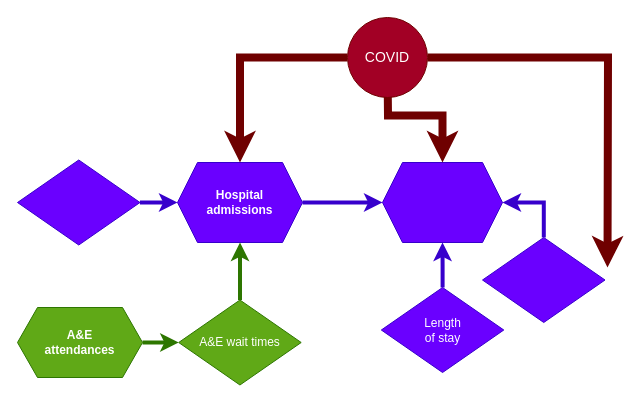
Some shapes in this 637 by 403 pixel diagram are drawn without their labels. Each missing label, with the centre of its shape:
"% Occupancy" belongs at point 442,202.
"Delayed discharges" belongs at point 543,279.
"Treatment wait times" belongs at point 78,202.
